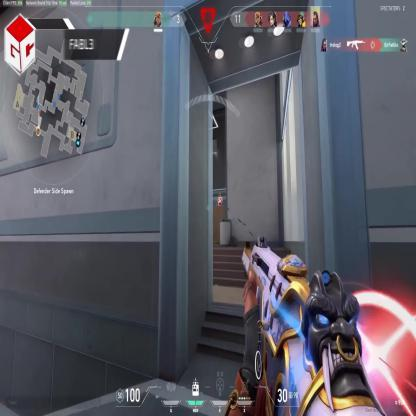enemy: (218, 189, 223, 216)
enemy_head: (219, 192, 221, 198)
